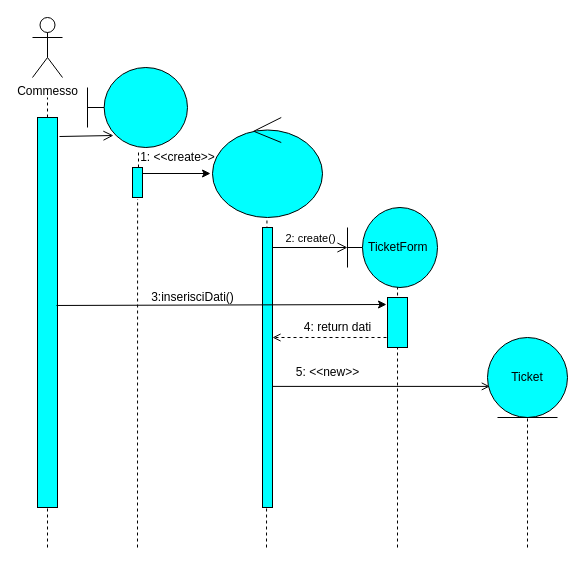
Image size: 585x566. Some labels were removed from this diagram. Here are the shapes that lost their labels. From the top down, the centre of each, then its label:
At pixel 137 107: "NewTicket".
At pixel 267 167: "NewTicketCreator".
